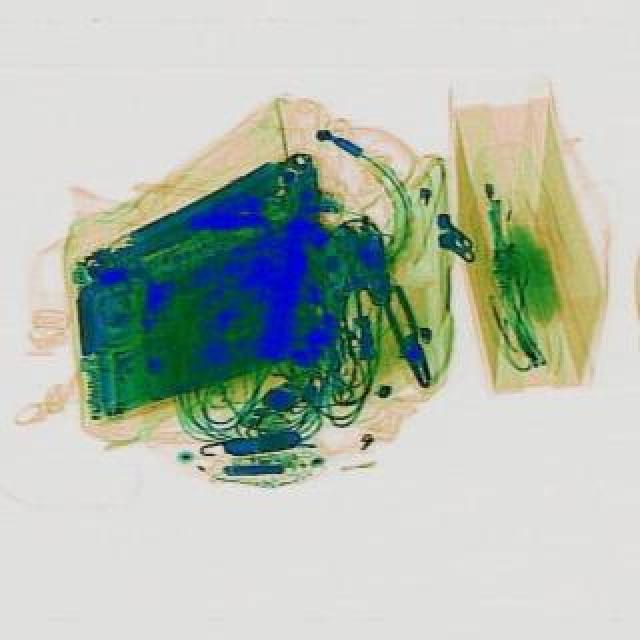wrench: (374, 282, 442, 390)
